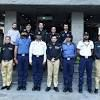uniform: (60, 37, 76, 89), (45, 36, 59, 90), (16, 35, 29, 89), (1, 42, 16, 85)
